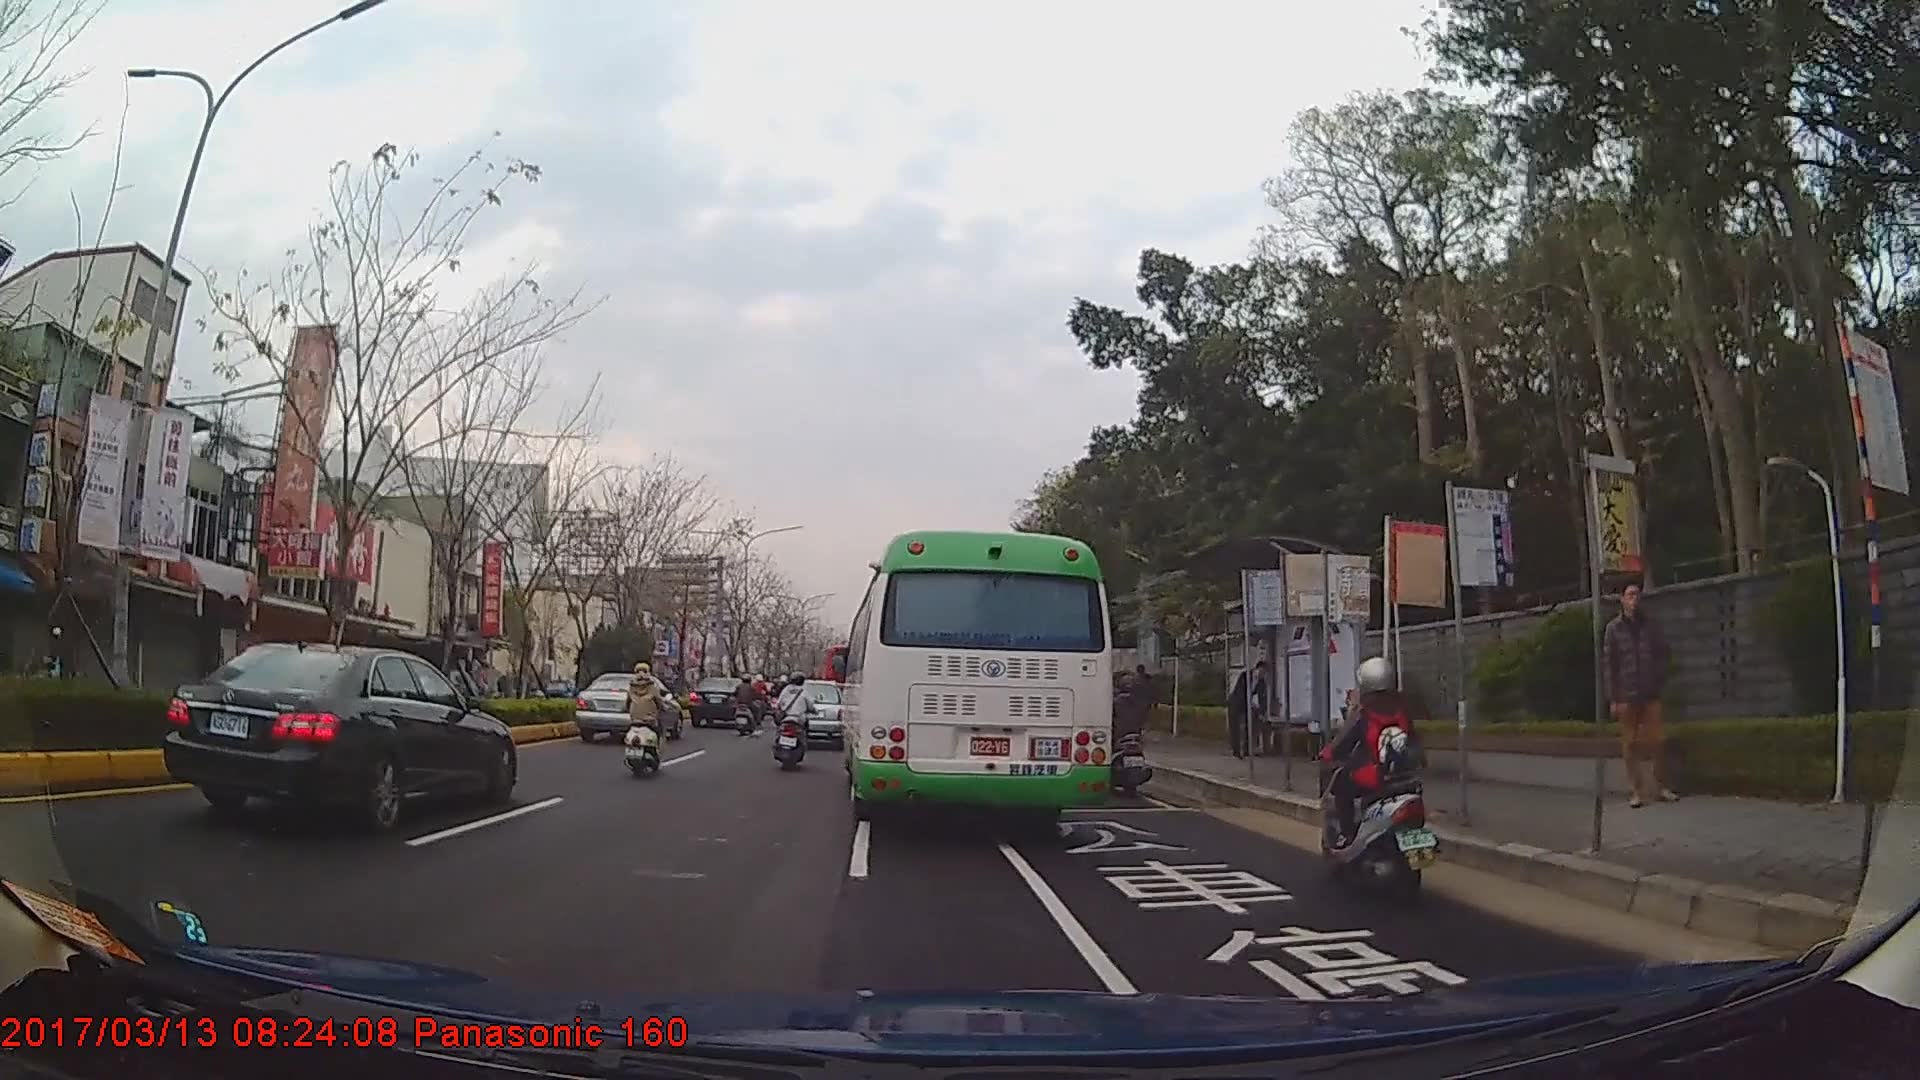pedestrian: (1601, 586, 1676, 811), (1223, 661, 1277, 762)
rider: (1317, 658, 1444, 903), (1107, 676, 1162, 801), (624, 663, 673, 777), (777, 677, 822, 774), (734, 675, 763, 739), (41, 626, 71, 680)
vehicle: (841, 531, 1115, 832), (160, 640, 517, 838), (576, 672, 683, 744), (778, 678, 848, 748), (688, 676, 755, 730)
